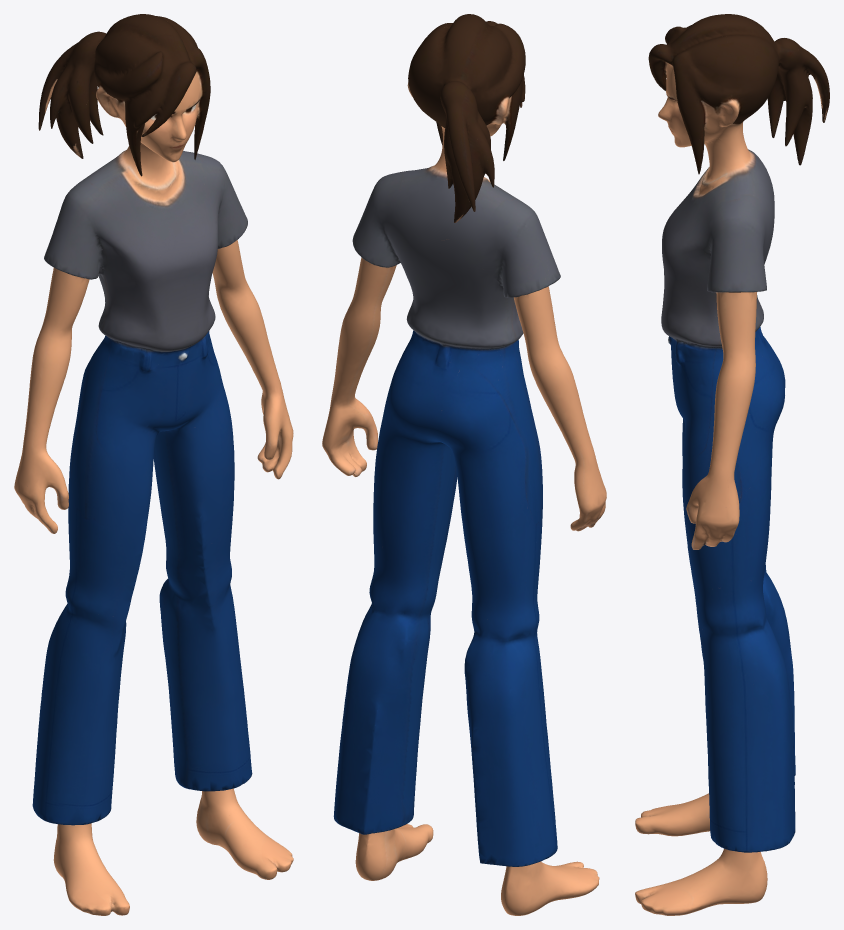
Rendered from Meshy_AI_Low_Poly_Resolve_0926224533_textureBEST0.glb.
3 views of the same model, side by side, from view 1: azimuth 30°, elevation 25°; view 2: azimuth 150°, elevation 25°; view 3: azimuth 270°, elevation 25° (orthographic). The views are drawn at different scales.
Parts seen in each view (by area): view 1: Mesh_0; view 2: Mesh_0; view 3: Mesh_0.
Boxes of the visible parts, left/top/right/bottom form: Mesh_0: left=14, top=14, right=293, bottom=915; Mesh_0: left=322, top=14, right=606, bottom=915; Mesh_0: left=635, top=14, right=829, bottom=915.
Bounding box in the file's own units: 0.6288 × 1.9 × 0.3957.
1 material, 1 textured.
